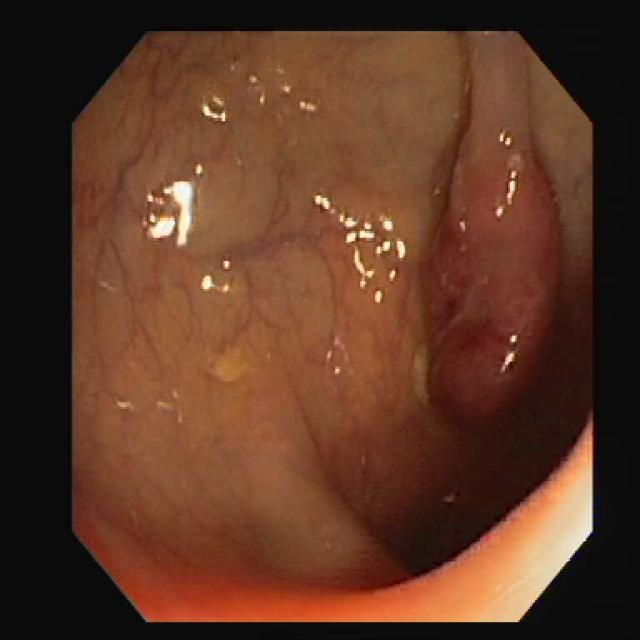tumor: (423, 111, 558, 420)
